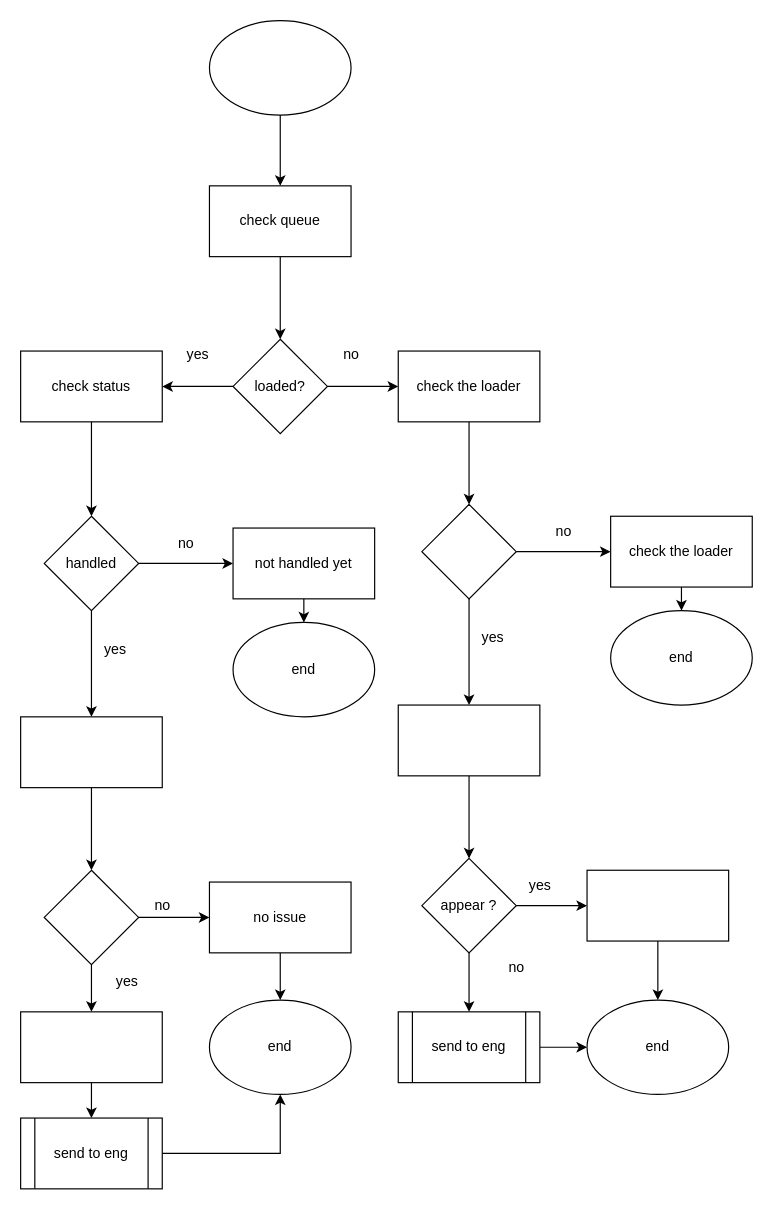
Some shapes in this 773 by 1210 pixel diagram are drawn without their labels. Here are the shapes that lost their labels. From the top down, the centre of each, then its label:
At [279,67]: "item not processed".
At [468,551]: "working?".
At [90,752]: "get status".
At [468,740]: "check item logs".
At [91,917]: "app exception?".
At [657,905]: "input error".
At [90,1047]: "check logs".
